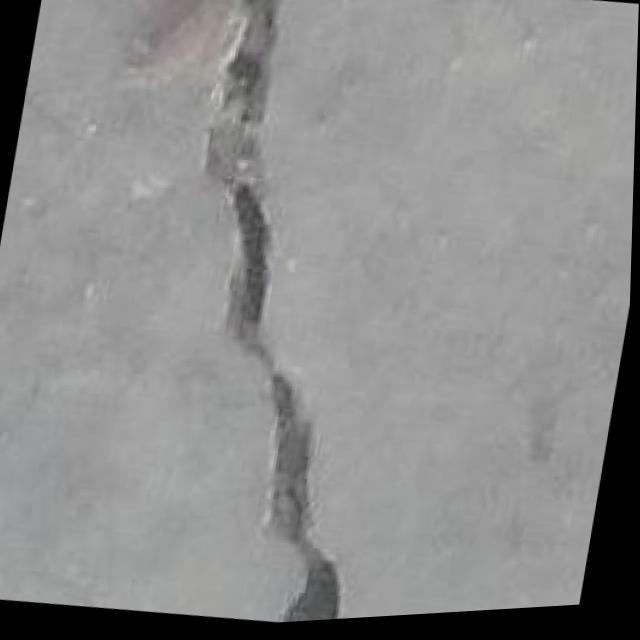Crack: (118, 0, 459, 634)
